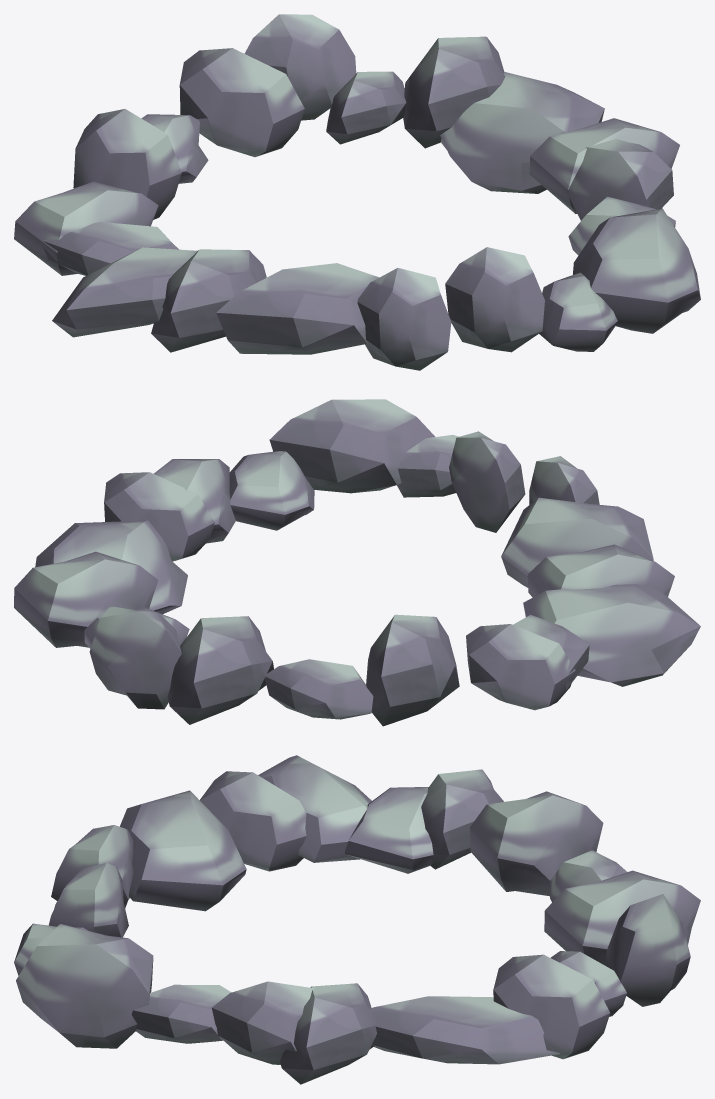
Rendered from Notski.fbx.
3 views of the same model, one above another, from view 1: azimuth 30°, elevation 25°; view 2: azimuth 150°, elevation 25°; view 3: azimuth 270°, elevation 25° (orthographic). The views are drawn at different scales.
Visible parts, largest first — view 1: Cube; view 2: Cube; view 3: Cube.
Part boxes in pixels (x1,y1,x2,y2): Cube: [14, 14, 700, 370]; Cube: [14, 399, 700, 726]; Cube: [14, 755, 700, 1084].
Size of the model in its own units: 400 by 66.76 by 391.
1 material, 1 textured.
